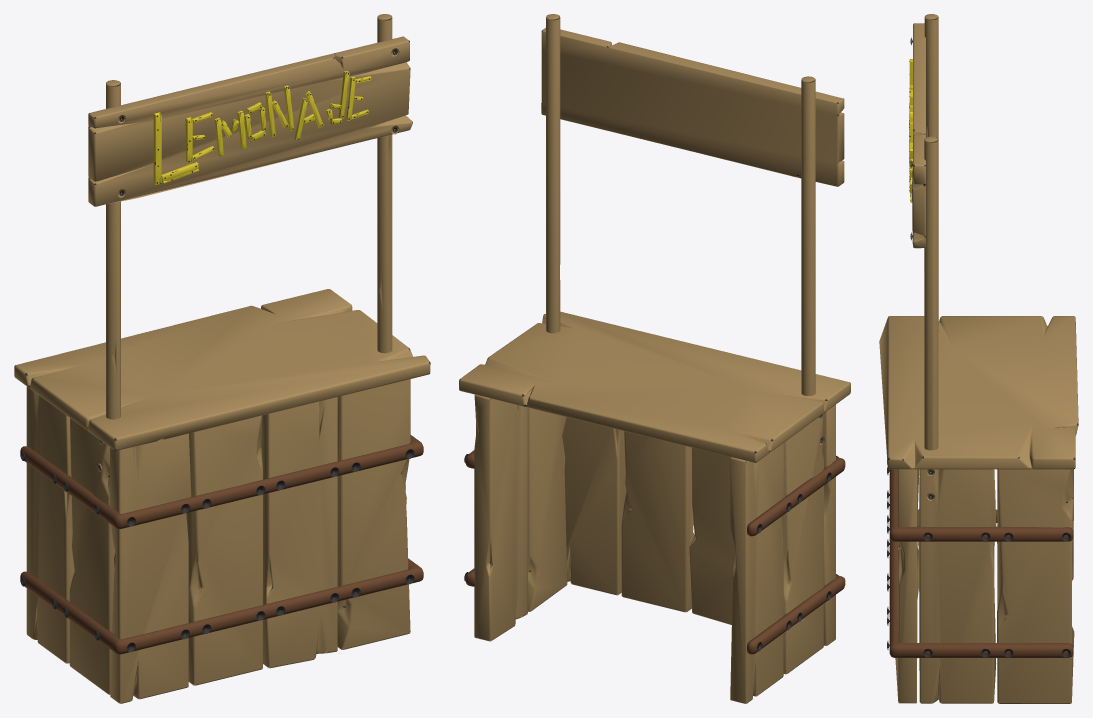
Rendered from stand.glb.
The picture shows the model from 3 angles, left to right: view 1: azimuth 30°, elevation 25°; view 2: azimuth 150°, elevation 25°; view 3: azimuth 270°, elevation 25°; orthographic projection. The views are drawn at different scales.
Visible parts, largest first — view 1: stand; view 2: stand; view 3: stand.
Part boxes in pixels (left/top/right/bottom): stand: left=14, top=14, right=430, bottom=703; stand: left=459, top=14, right=850, bottom=703; stand: left=879, top=14, right=1078, bottom=703.
Size of the model in its own units: 9.34 by 16.69 by 5.35.
